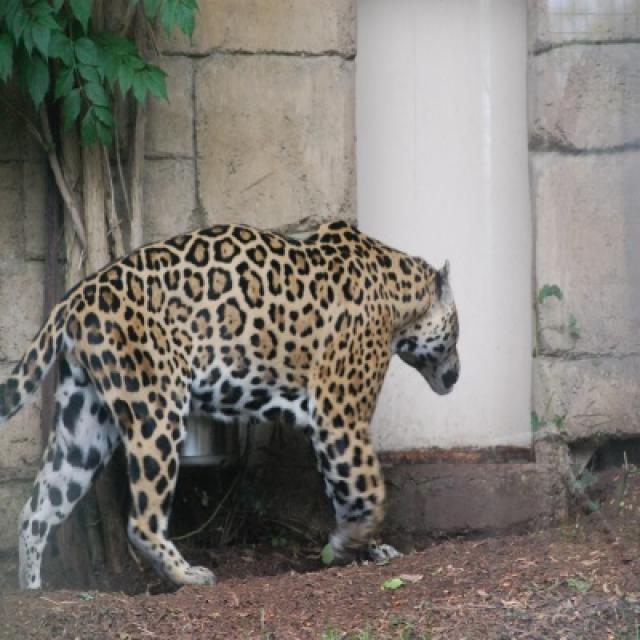Jaguar: (0, 219, 461, 595)
